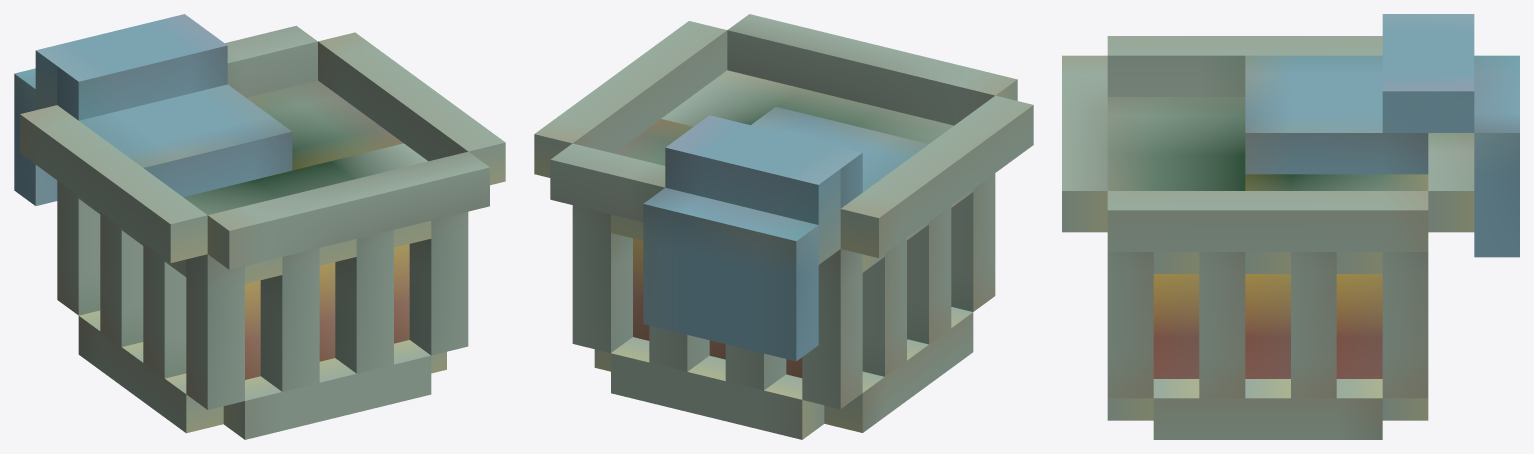
The model's file is ClothesBasket_B_00.fbx.
3 renders of one model, left to right at view 1: azimuth 30°, elevation 25°; view 2: azimuth 150°, elevation 25°; view 3: azimuth 270°, elevation 25°, orthographic. The views are drawn at different scales.
Visible parts, largest first — view 1: ClothesBasket_B_00; view 2: ClothesBasket_B_00; view 3: ClothesBasket_B_00.
Part boxes in pixels (<box>): ClothesBasket_B_00: <box>14,14,505,439</box>; ClothesBasket_B_00: <box>534,14,1033,439</box>; ClothesBasket_B_00: <box>1062,14,1519,439</box>.
Size of the model in its own units: 45 by 50 by 35.
1 material, 1 textured.
